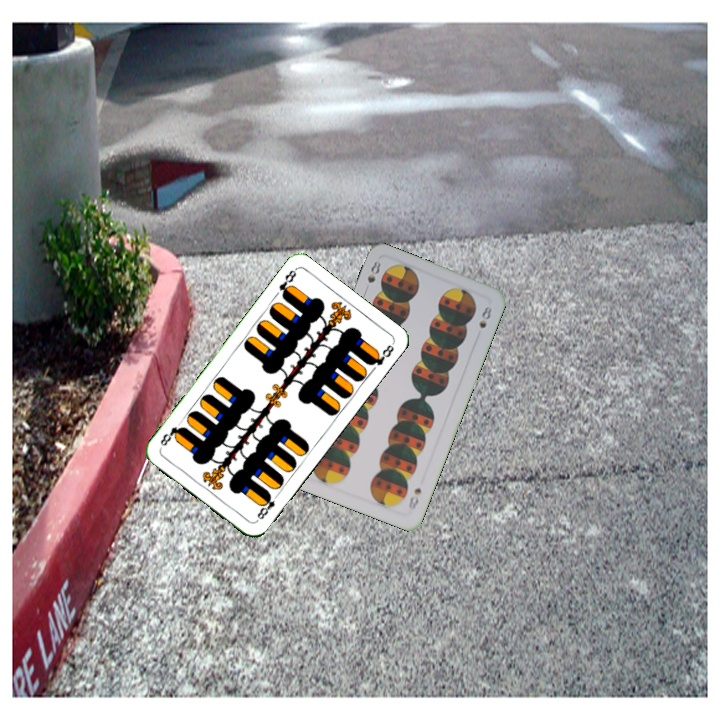E8: (252, 489, 282, 524), (275, 265, 299, 301)
S8: (360, 256, 383, 295), (404, 484, 424, 513)
